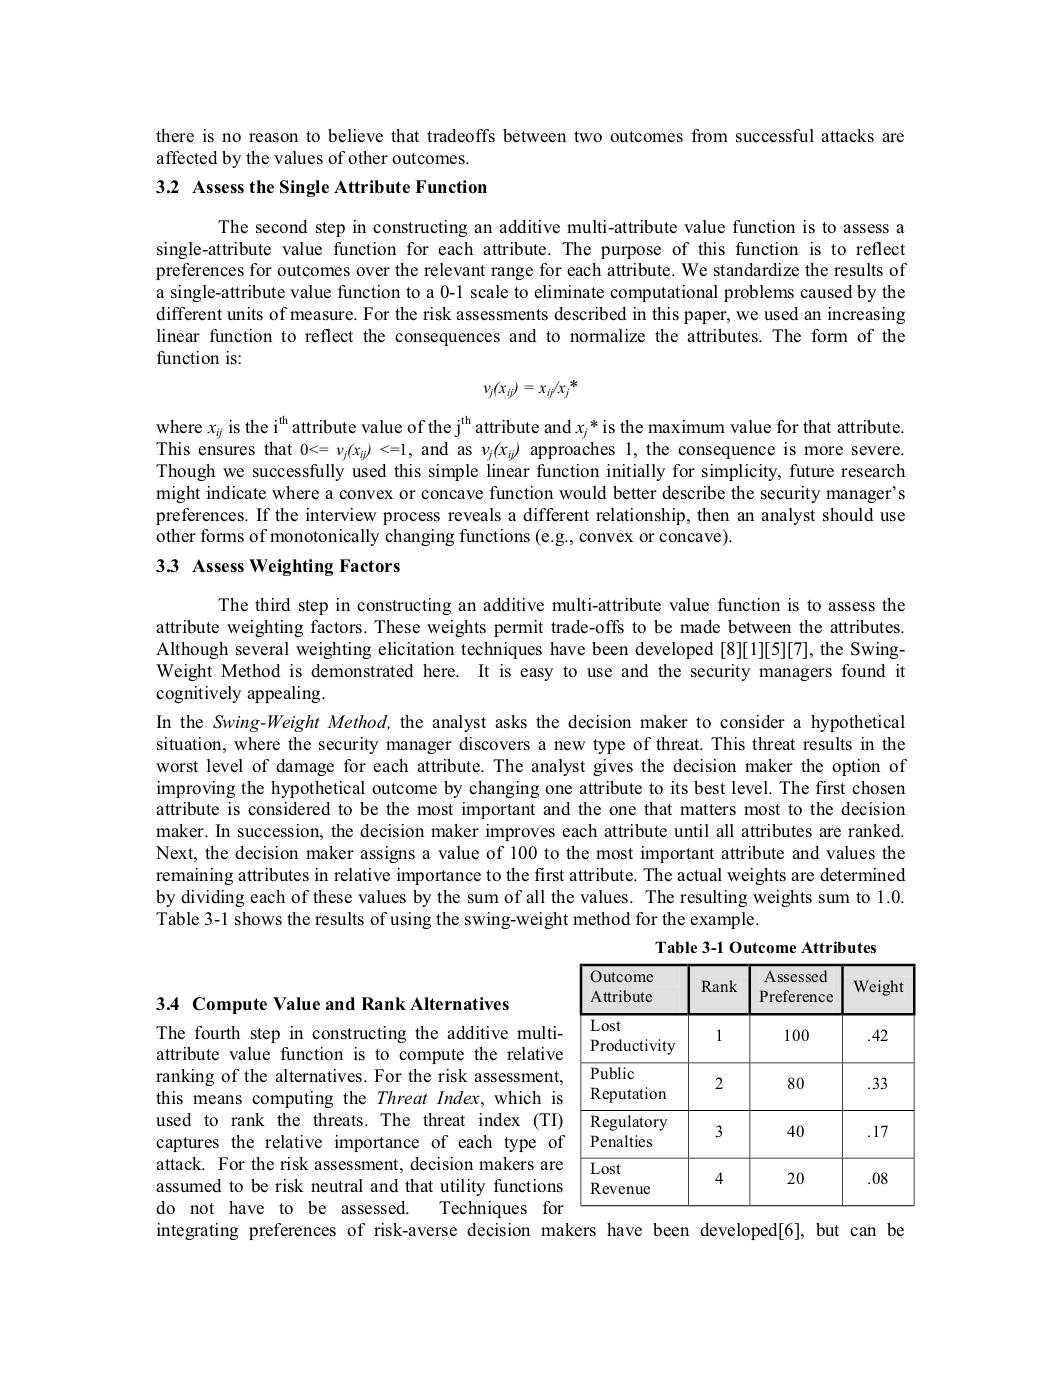Table: (580, 963, 915, 1206)
formula: (483, 378, 576, 399)
